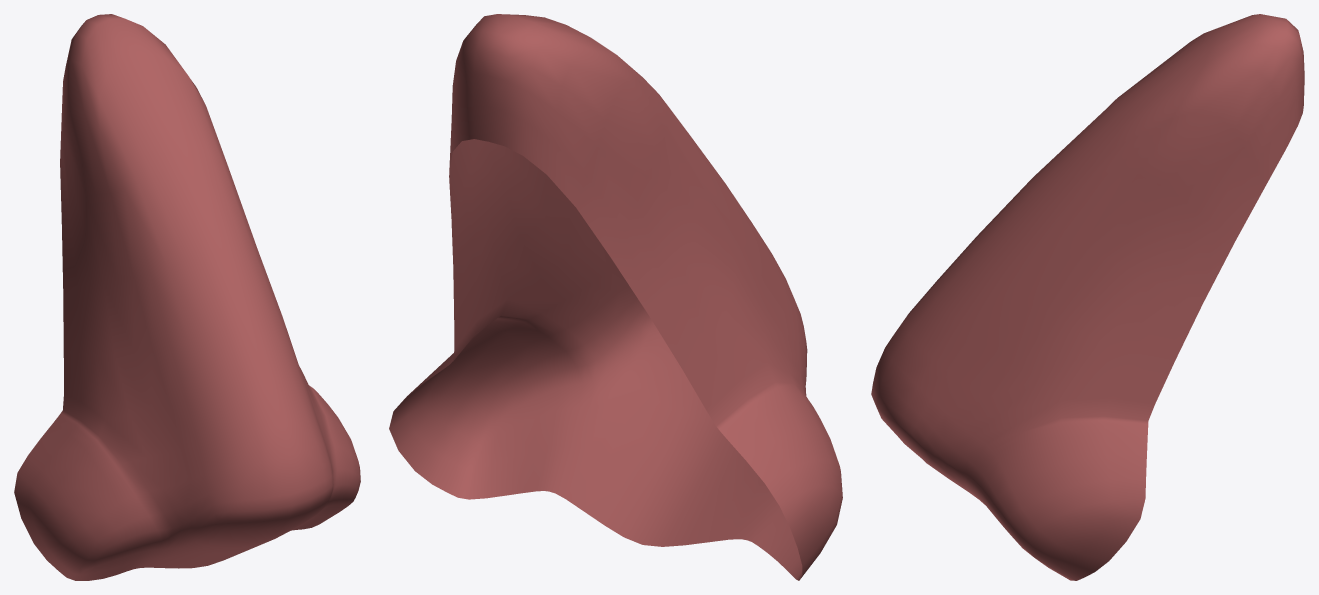
File: Nose03.fbx
3 views of the same model, side by side, from view 1: azimuth 30°, elevation 25°; view 2: azimuth 150°, elevation 25°; view 3: azimuth 270°, elevation 25° (orthographic). The views are drawn at different scales.
Parts seen in each view (by area): view 1: Nose4; view 2: Nose4; view 3: Nose4.
Boxes of the visible parts, bbox=[...] form: Nose4: bbox=[14, 14, 360, 580]; Nose4: bbox=[389, 14, 842, 580]; Nose4: bbox=[871, 14, 1304, 580].
Size of the model in its own units: 2.46 by 3.65 by 2.83.
